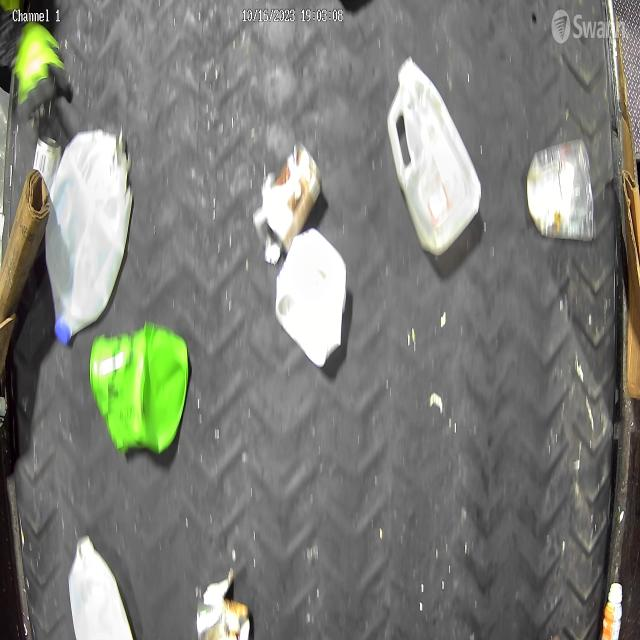can: (254, 140, 322, 264), (196, 584, 250, 640), (32, 133, 61, 185)
milk_jug: (385, 53, 482, 257), (44, 129, 134, 342), (274, 227, 348, 367), (68, 531, 135, 640)
non_white_jug: (90, 323, 188, 457)
